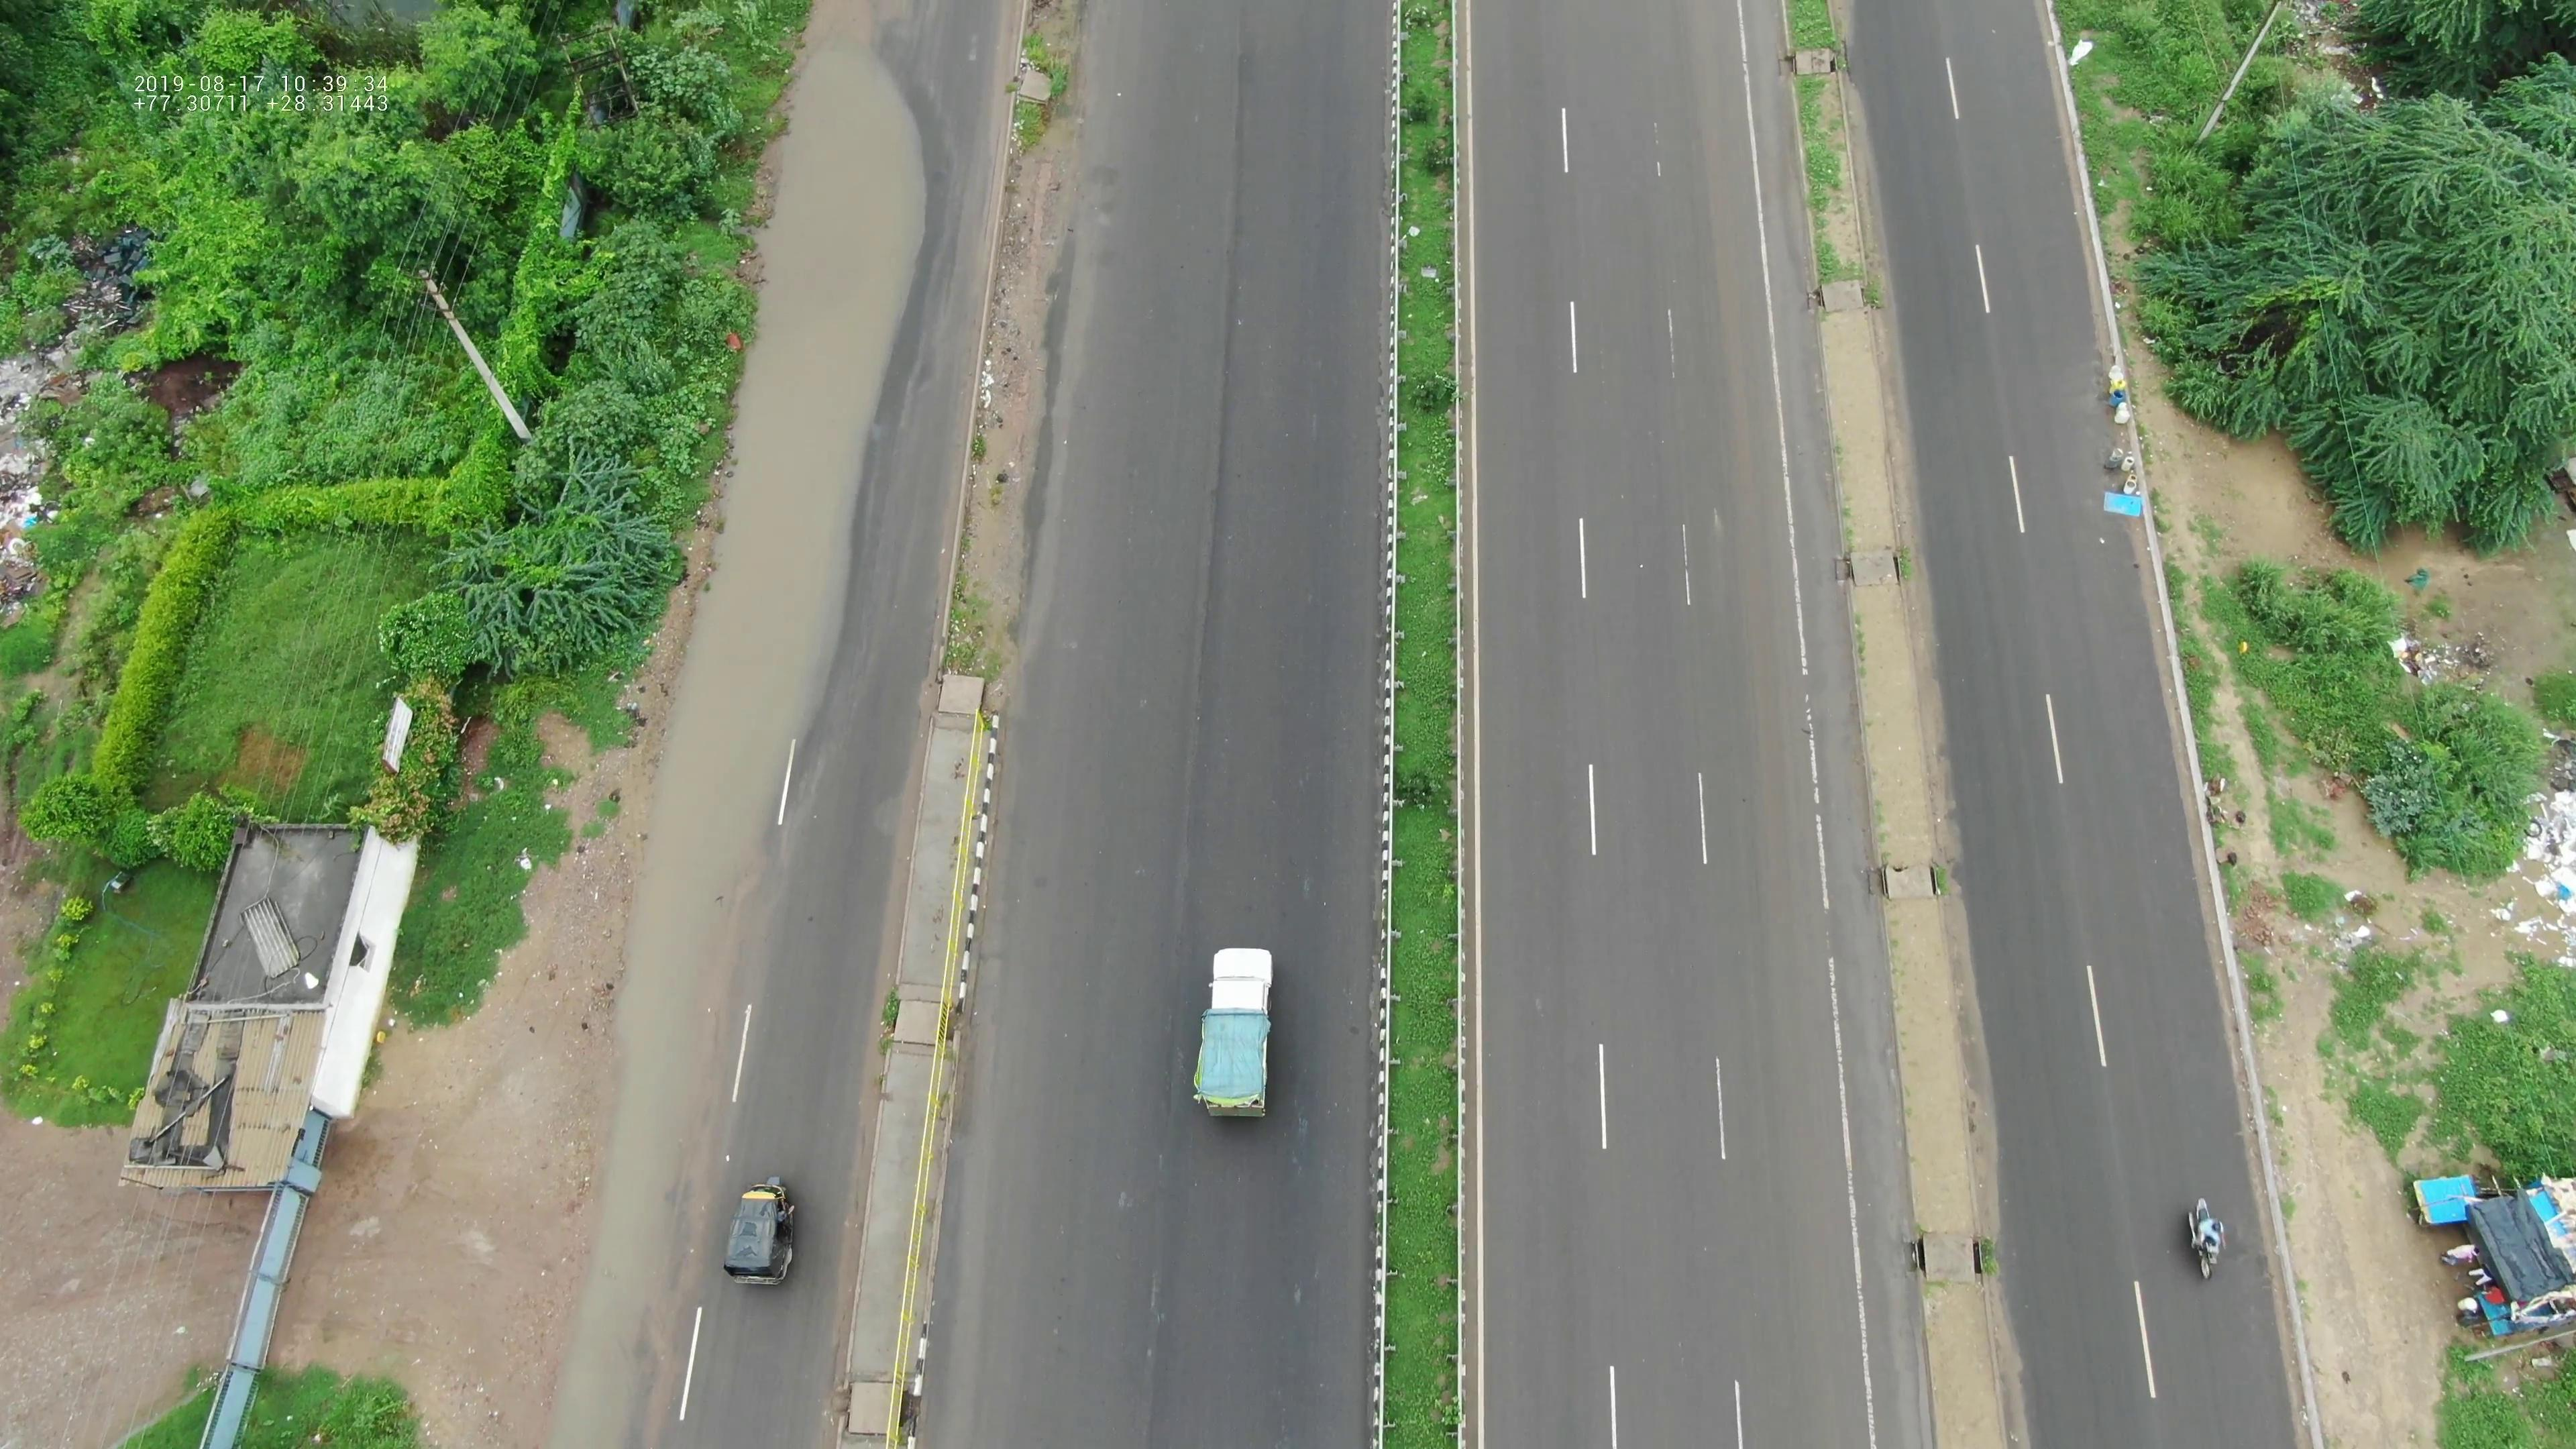Waterlogging: (676, 39, 941, 683), (600, 658, 833, 1051), (536, 1065, 729, 1414)
